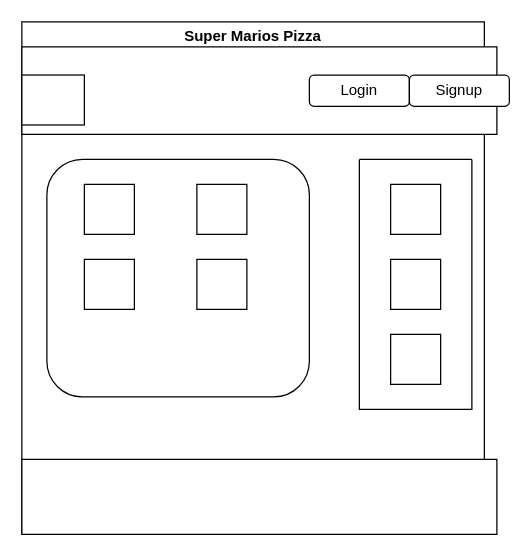
Image size: 531x556. Some labels were removed from this diagram. The centre of each missing label's shape, as x and y in pixels:
BI: [52,99]
Footer: [259,496]
